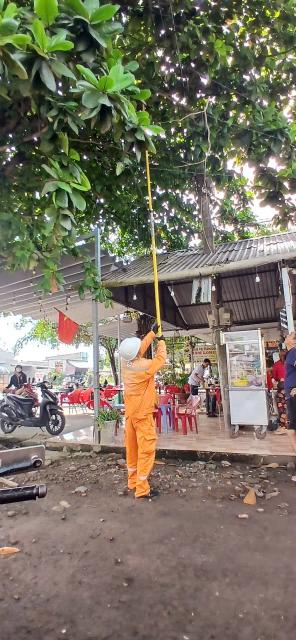gloves: (147, 317, 170, 336), (159, 334, 170, 348)
helmet: (117, 334, 143, 359)
shoes: (134, 484, 164, 500)
